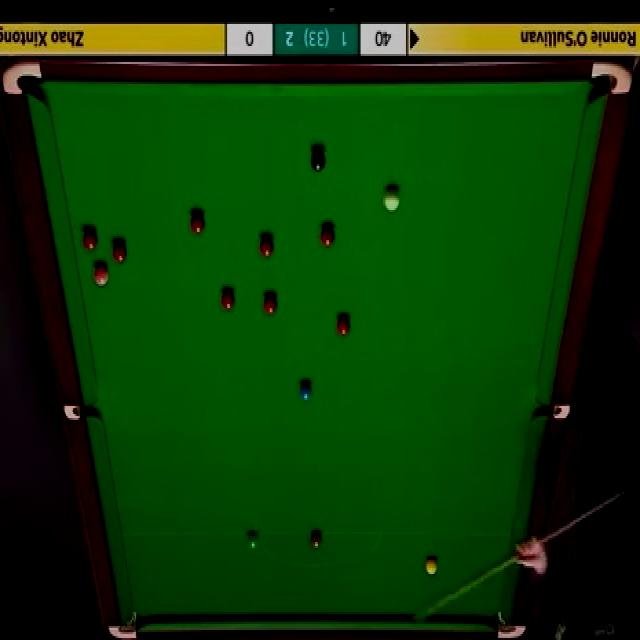black-ball: (310, 146, 326, 175)
blue-ball: (299, 378, 312, 404)
brown-ball: (309, 531, 323, 549)
green-ball: (245, 530, 260, 552)
pink-ball: (92, 266, 110, 286)
red-ball: (190, 210, 206, 236), (320, 223, 336, 248), (262, 293, 278, 317), (260, 234, 275, 258), (82, 230, 98, 252), (220, 288, 234, 312), (112, 243, 128, 264), (338, 315, 351, 338)
white-ball: (382, 190, 401, 212)
yellow-ball: (425, 555, 437, 574)
